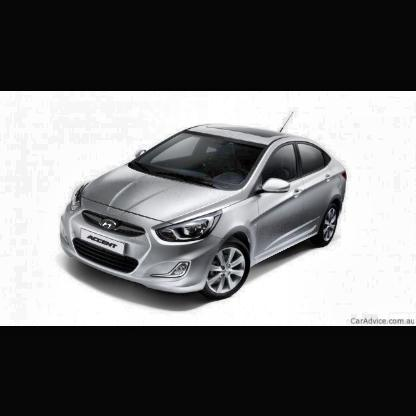Hyundai Accent Sedan 2012: (62, 113, 349, 302)
